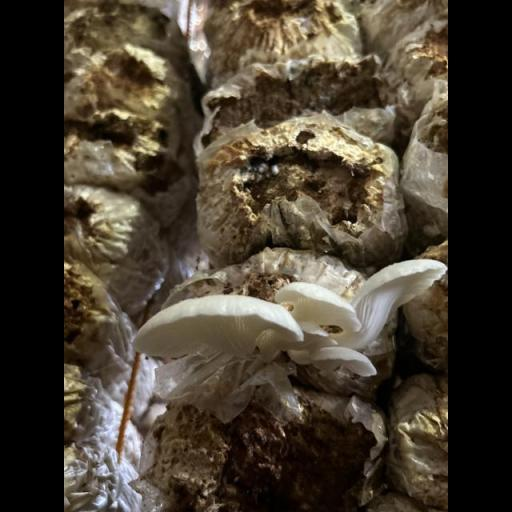White Oyster Mushroom: (138, 260, 440, 380)
